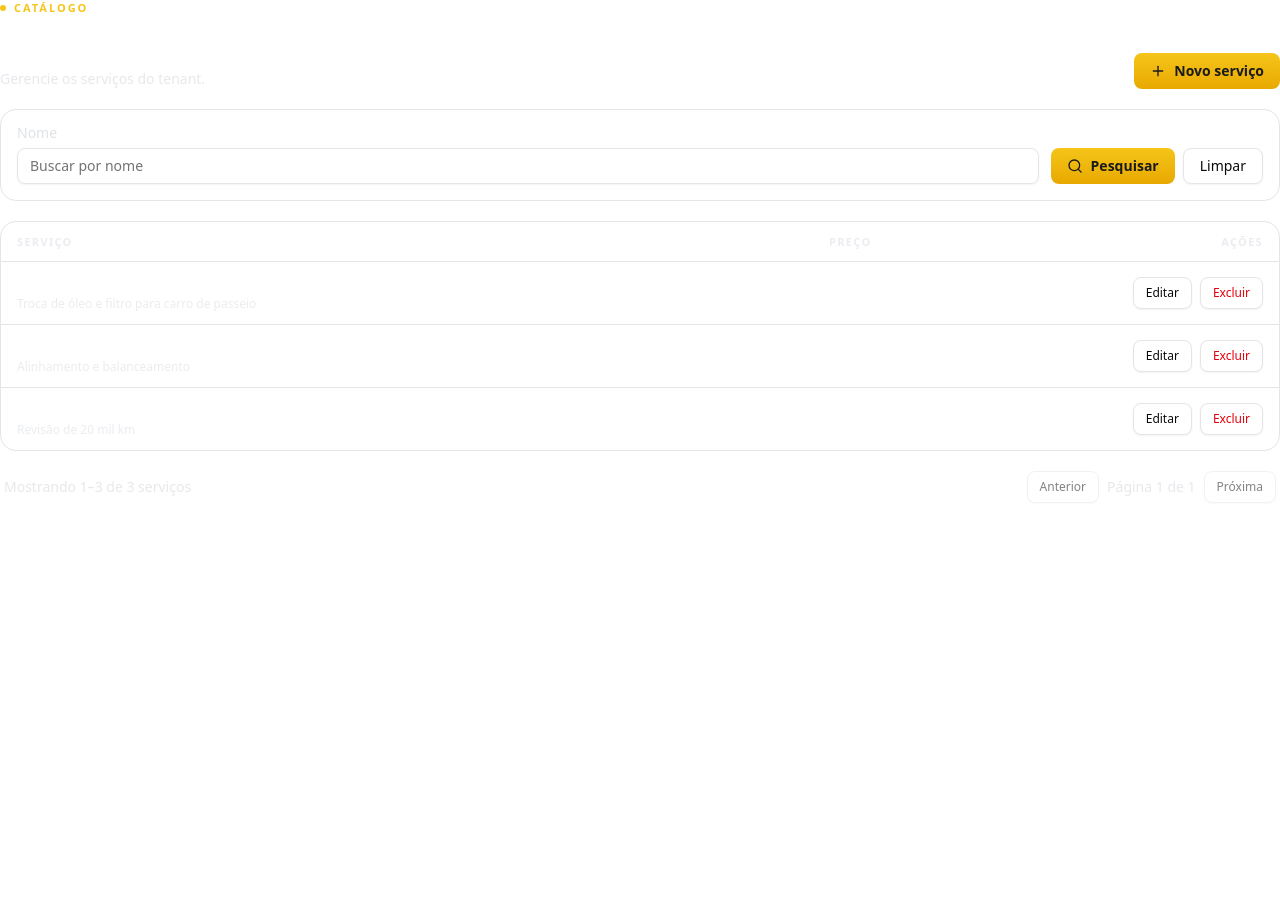
ServicesScreen › cria um serviço com os dados normalizados e preço em centavos
Click the button "Novo serviço" at (1207, 70), box [1134,52,1279,88]
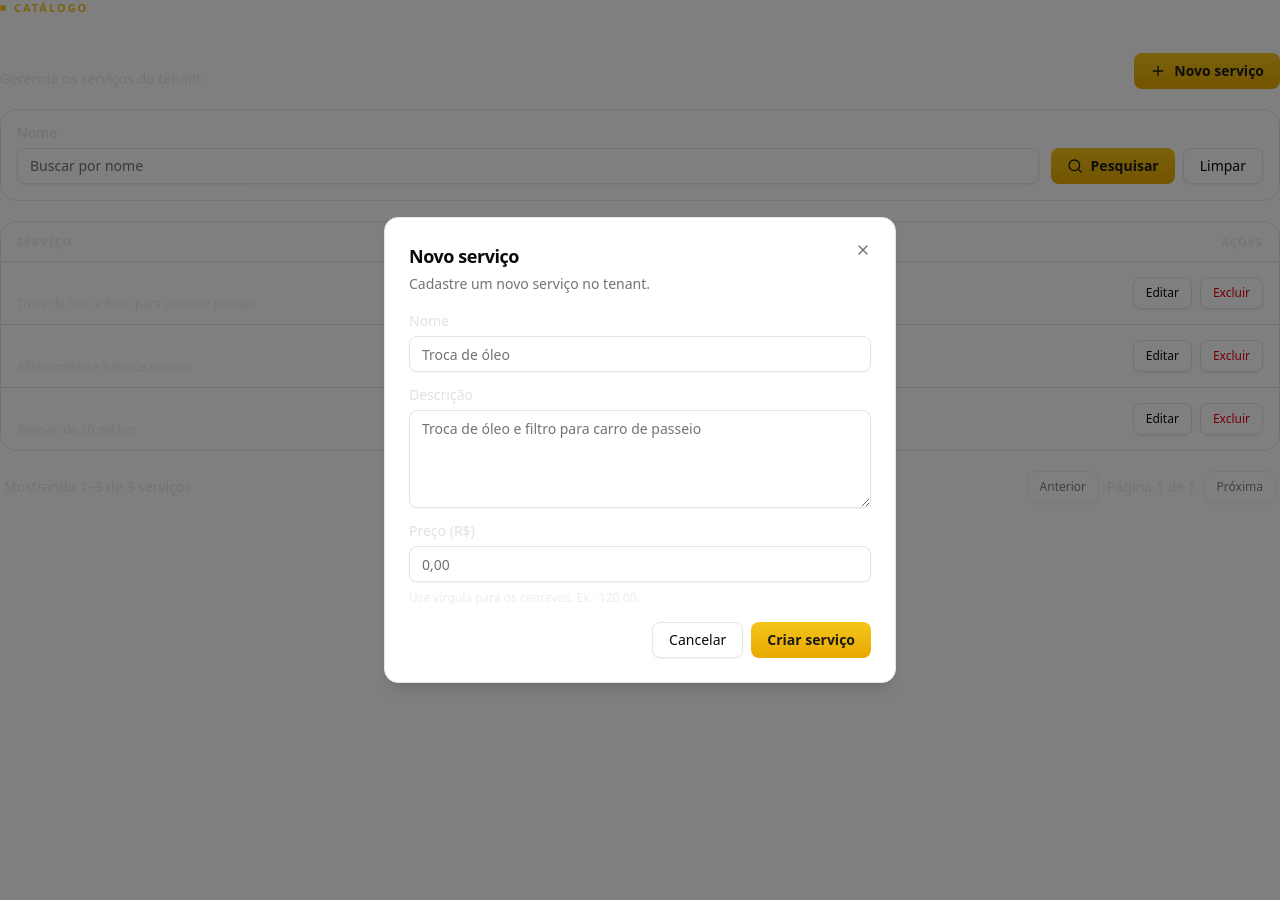
Type " Revisão completa " into the field labelled "Nome" at (640, 354), box [409,336,871,372]
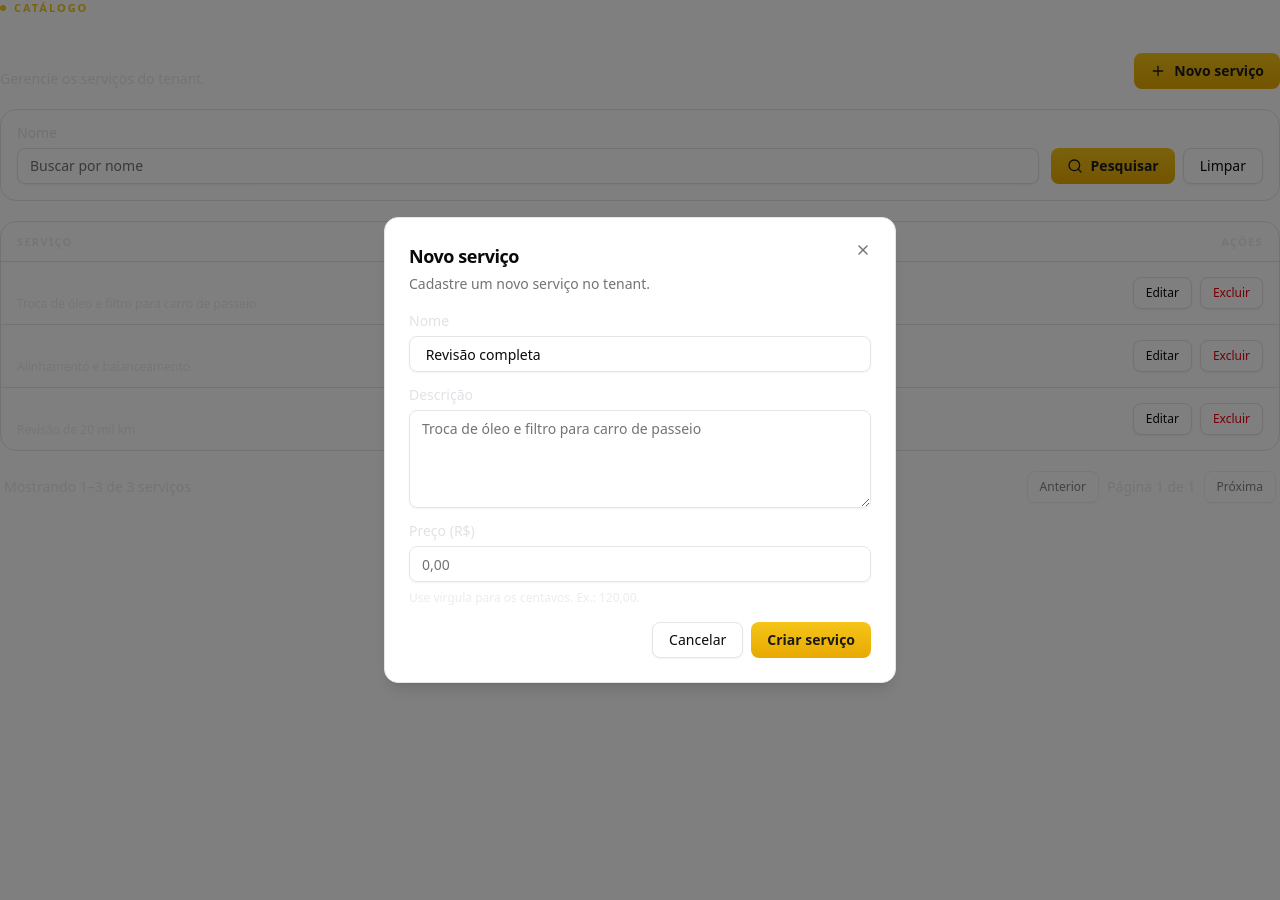
Type " Revisão de 20 mil km " into the text box labelled "Descrição" at (640, 459), box [409,410,871,508]
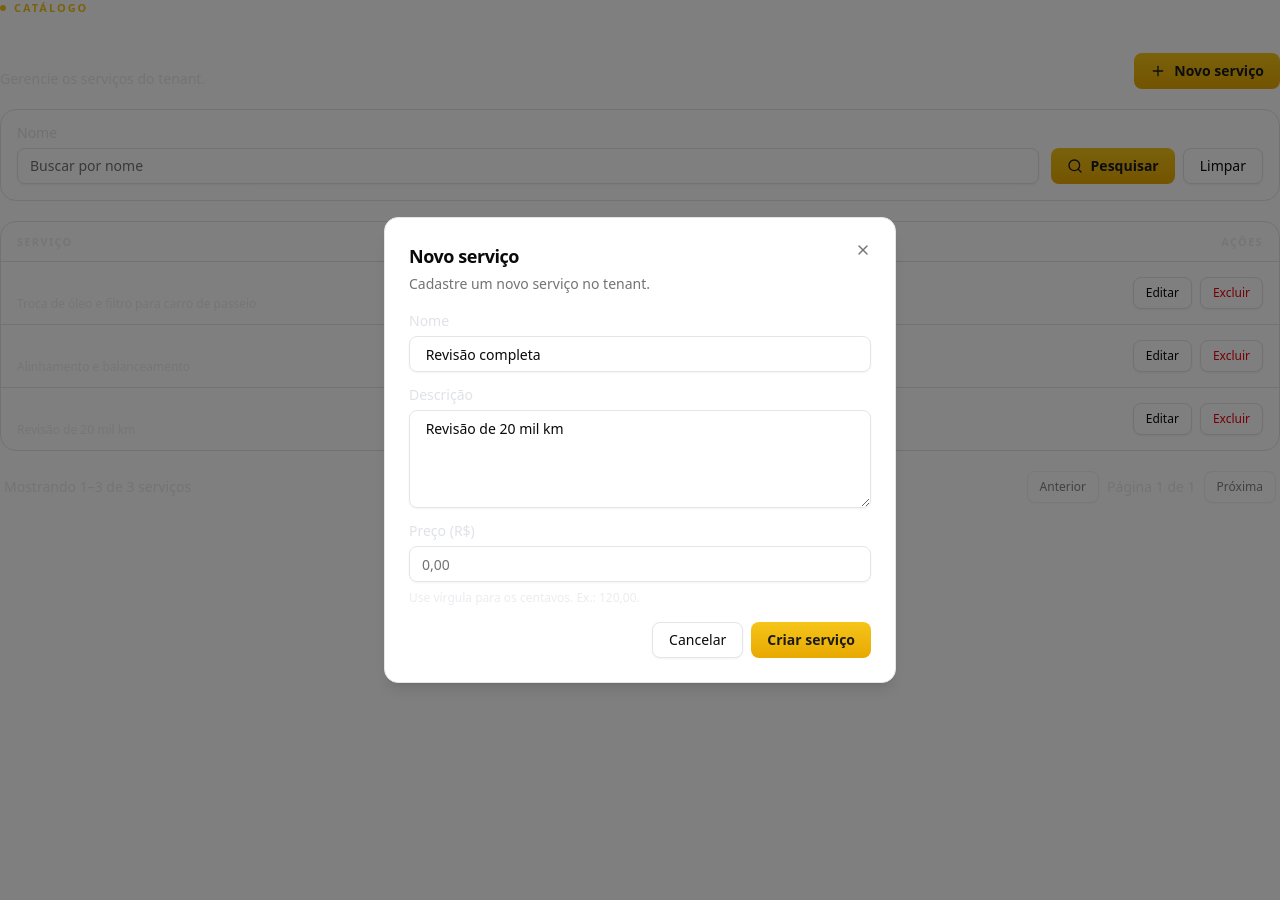
Type "120,00" into the field labelled "Preço (R$)" at (640, 564), box [409,546,871,582]
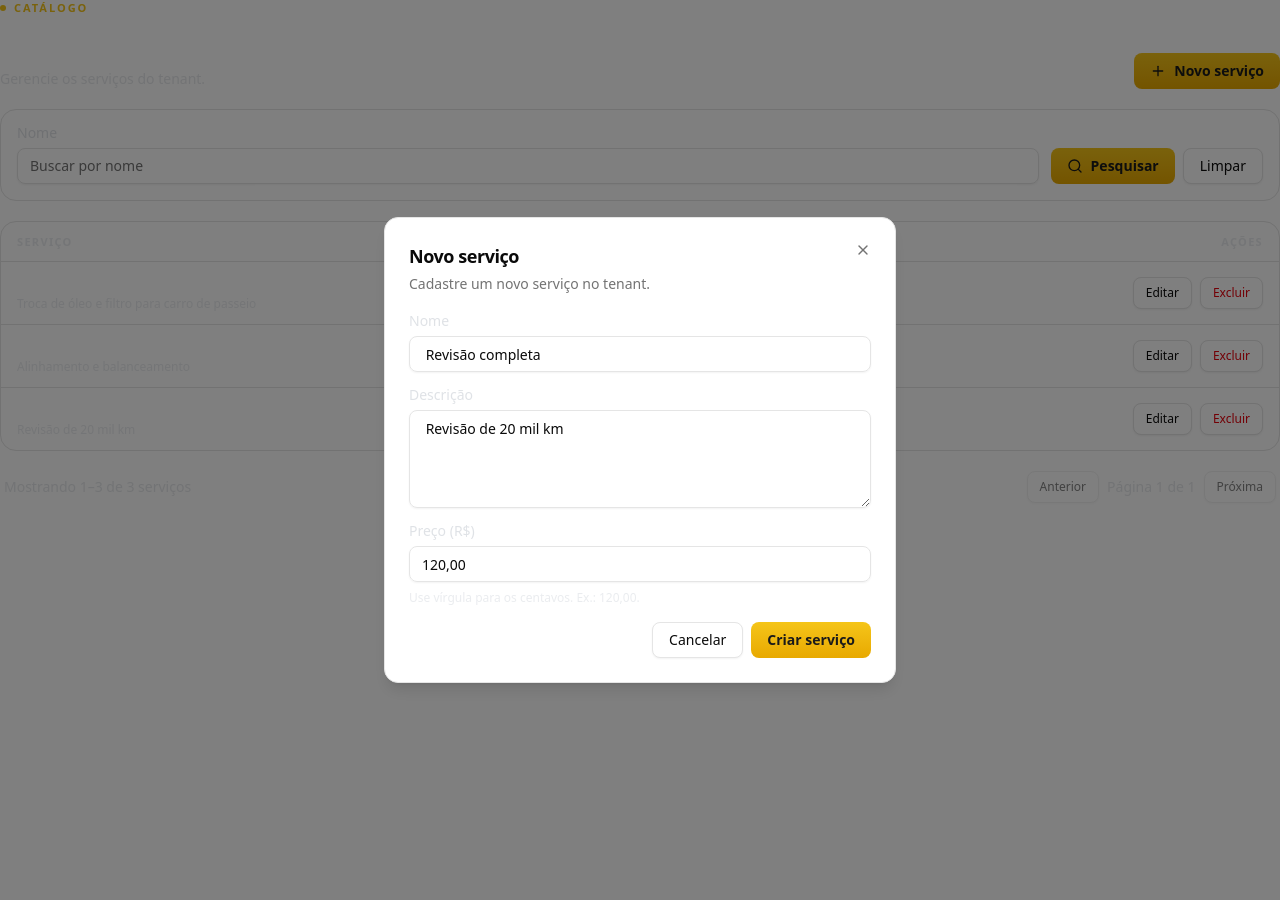
Click the button "Criar serviço" at (811, 640), box [751,622,871,658]
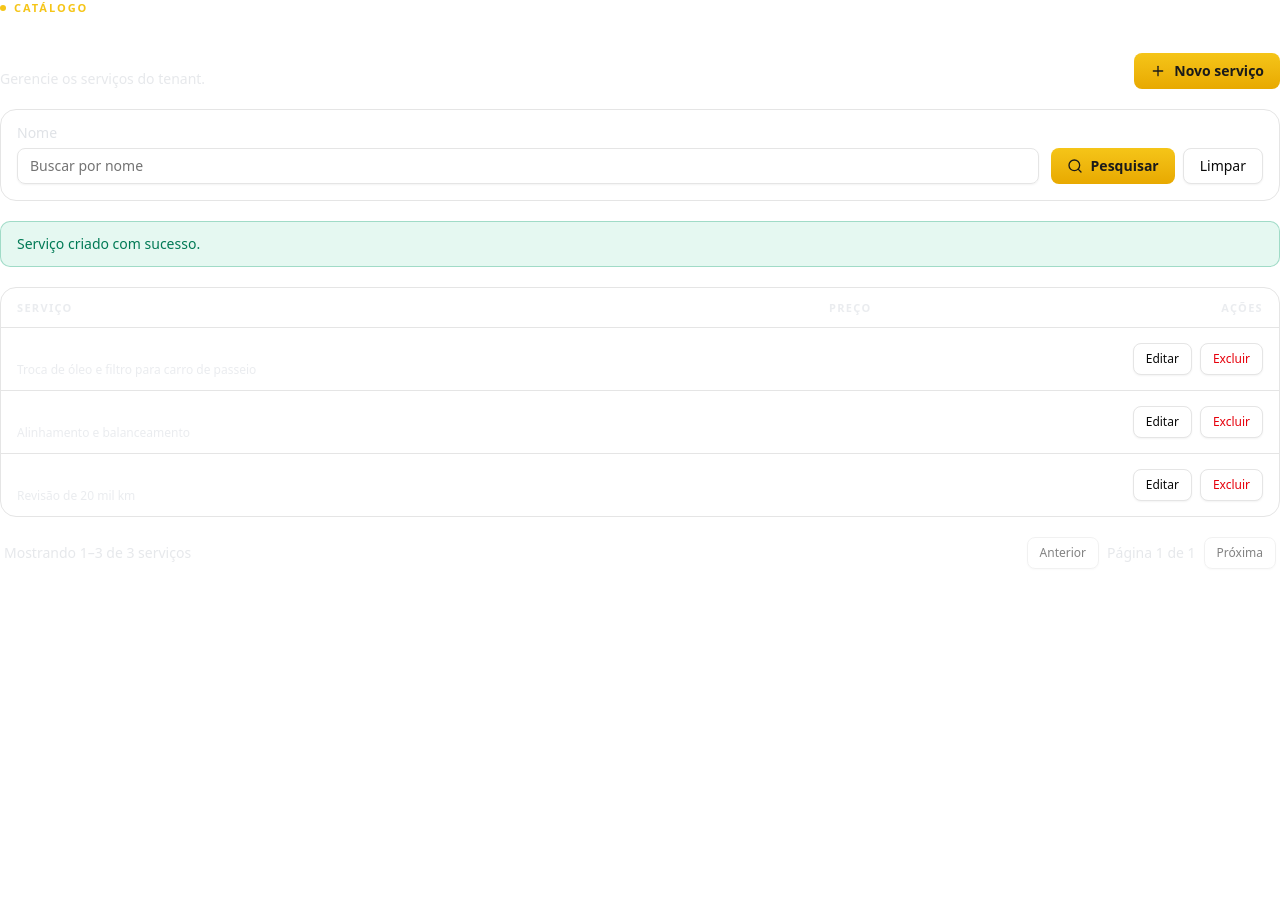
Result: the text "Serviço criado com sucesso." is shown at [0,220,1279,266]
